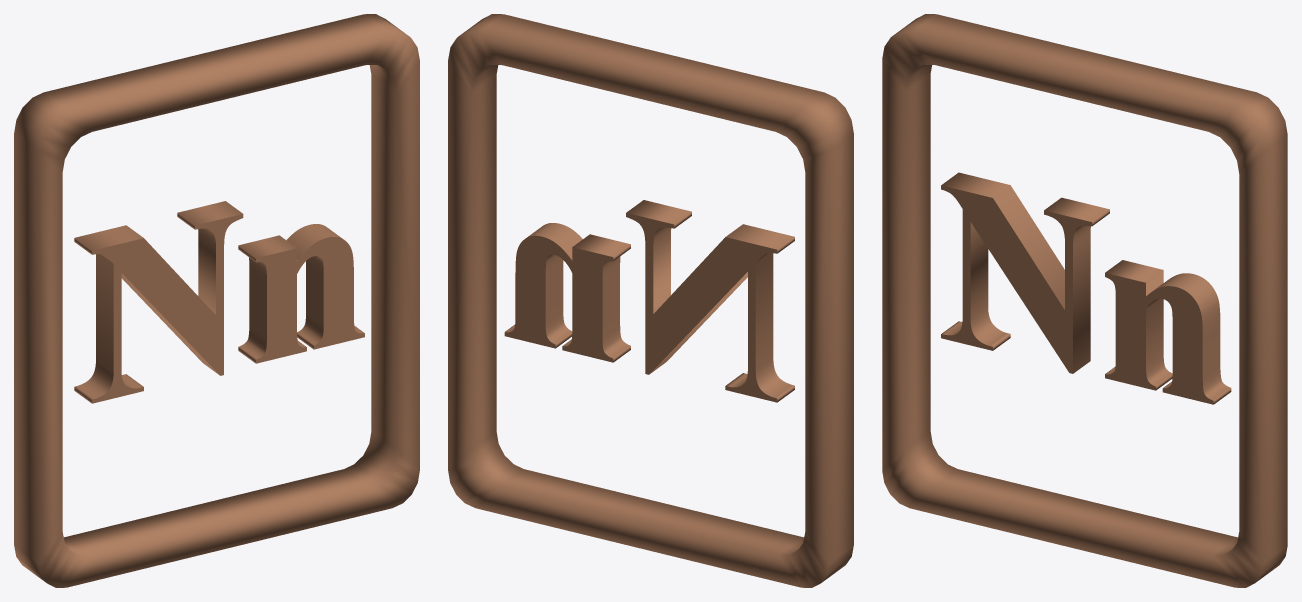
The model's file is Letter_N.gltf.
3 views of the same model, side by side, from view 1: azimuth 30°, elevation 25°; view 2: azimuth 150°, elevation 25°; view 3: azimuth 330°, elevation 25° (orthographic).
Visible parts, largest first — view 1: Letters.015; view 2: Letters.015; view 3: Letters.015.
Boxes of the visible parts, left/top/right/bottom form: Letters.015: left=14, top=14, right=419, bottom=587; Letters.015: left=448, top=14, right=853, bottom=587; Letters.015: left=882, top=14, right=1287, bottom=587.
Size of the model in its own units: 1.25 by 1.49 by 0.1418.
